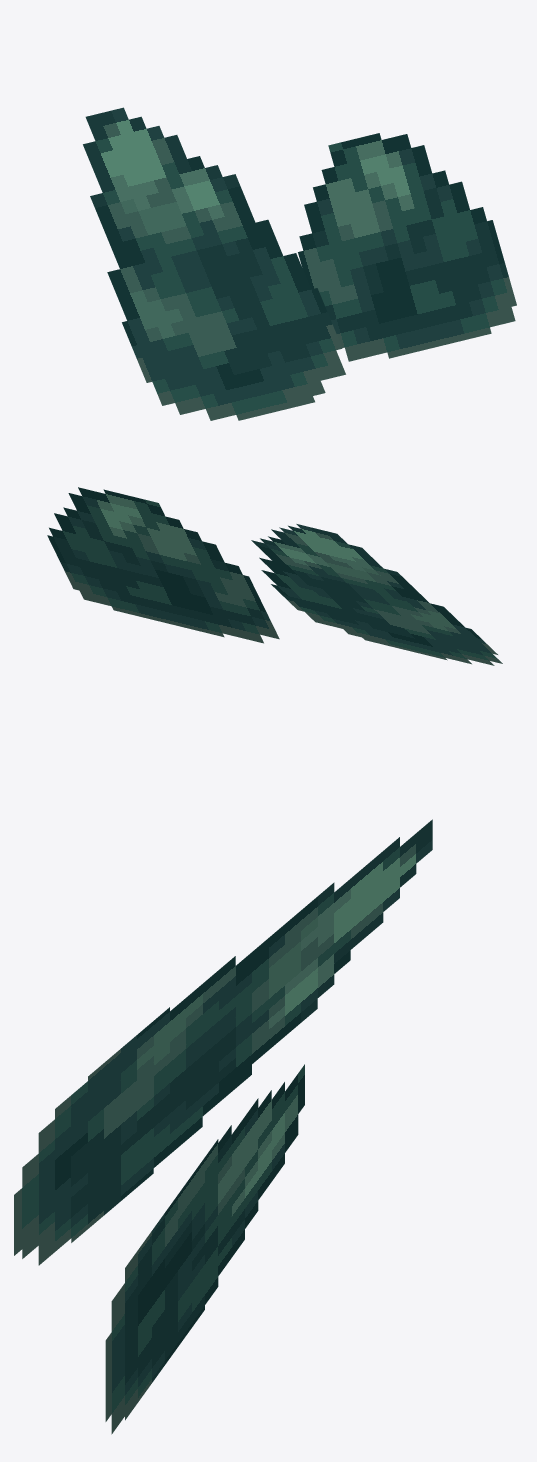
3 renders of one model, top to bottom at view 1: azimuth 30°, elevation 25°; view 2: azimuth 150°, elevation 25°; view 3: azimuth 270°, elevation 25°, orthographic. The views are drawn at different scales.
Bounding box in the file's own units: 2 × 1.33 × 1.41.
Materials: 1 (1 with a texture image).
